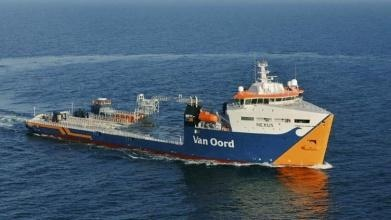Cargoship: (20, 57, 339, 175)
